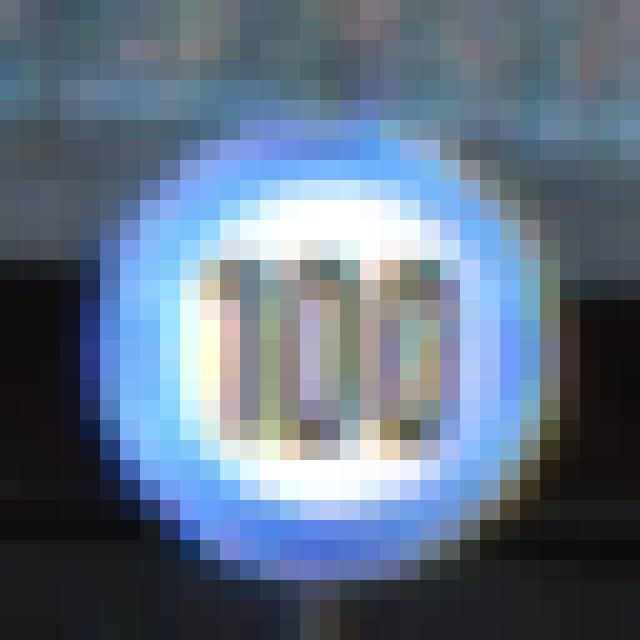SPEED LIMIT 100: (93, 137, 545, 579)
